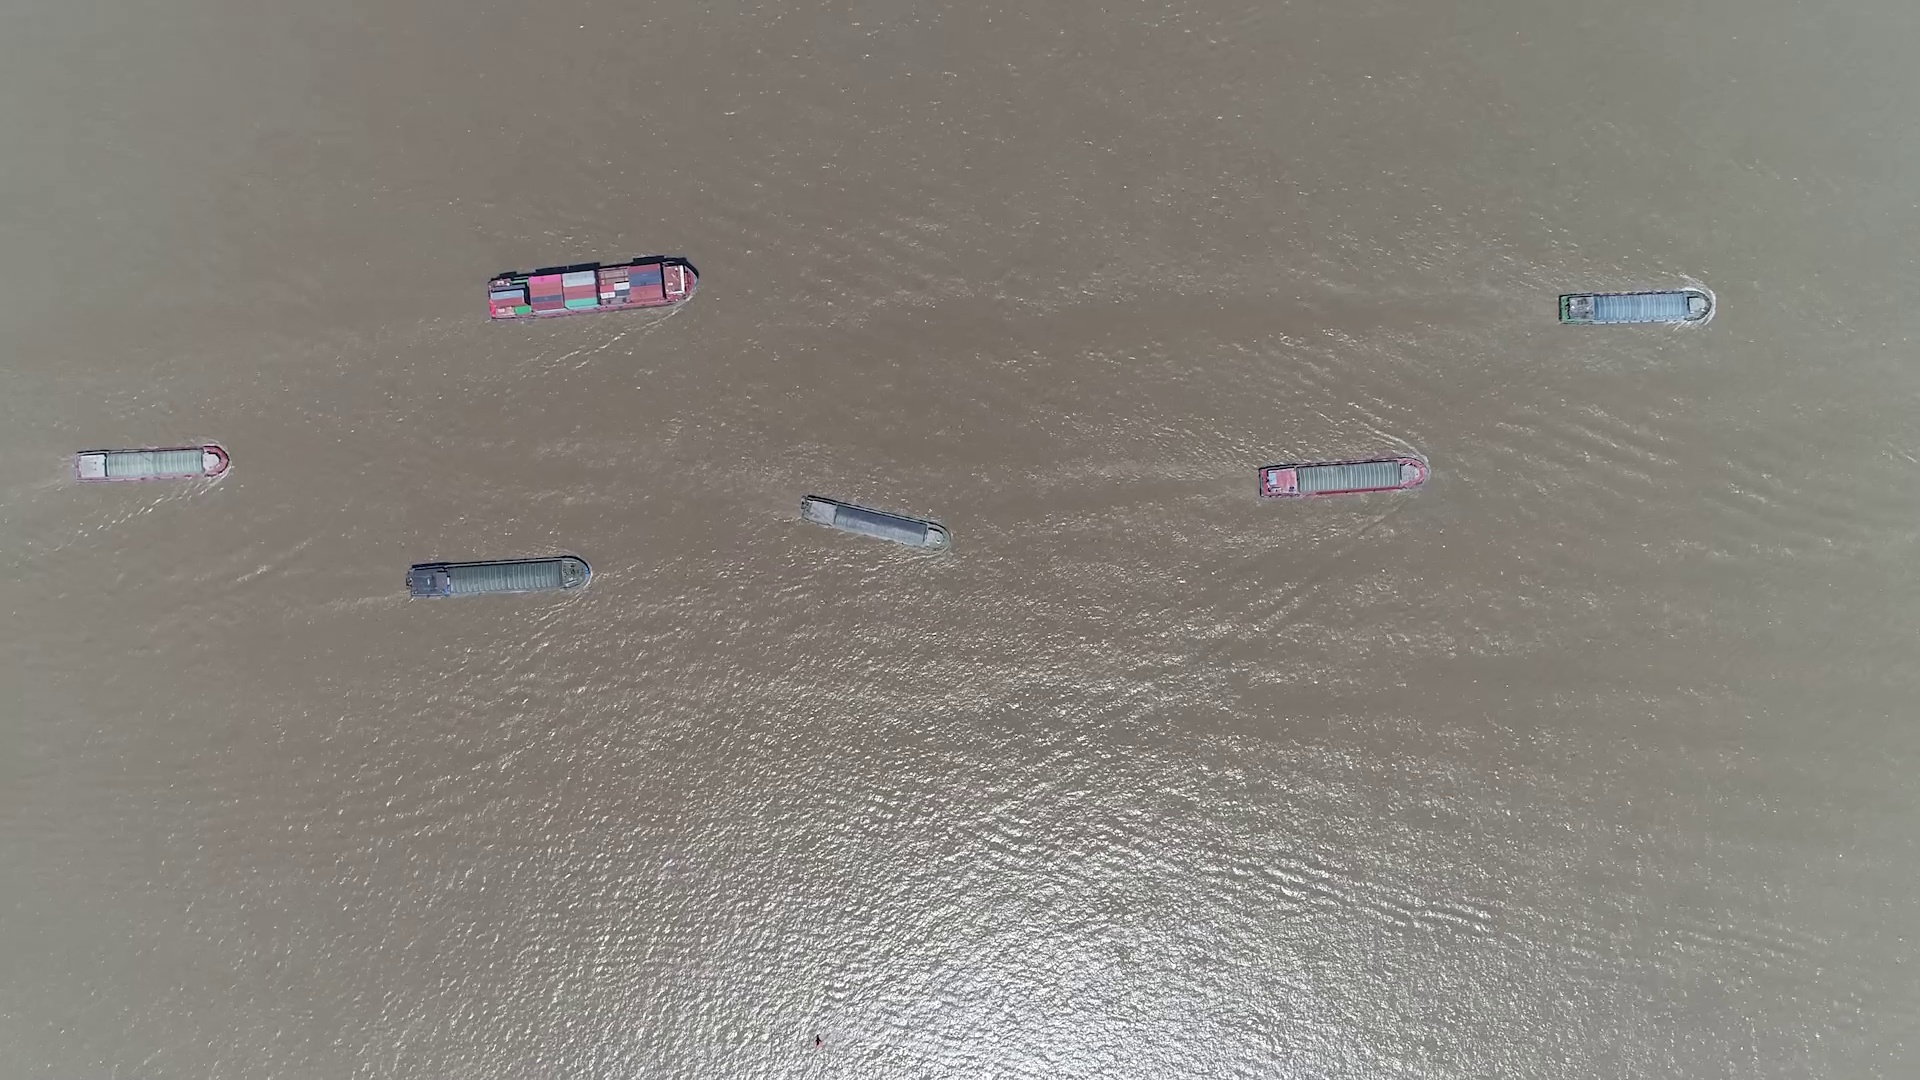ship: (487, 258, 698, 319), (798, 495, 948, 550), (407, 556, 591, 597), (1259, 456, 1428, 500), (74, 448, 229, 483), (1560, 289, 1712, 323)
